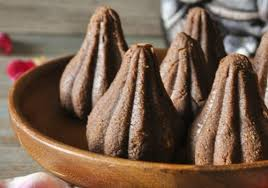modak: (89, 34, 185, 161), (189, 60, 268, 161), (51, 9, 124, 114)
